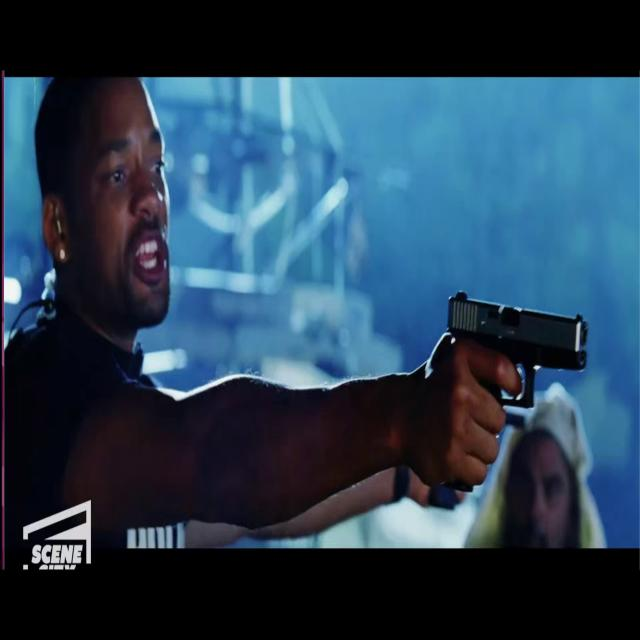weapons: (425, 277, 606, 473)
